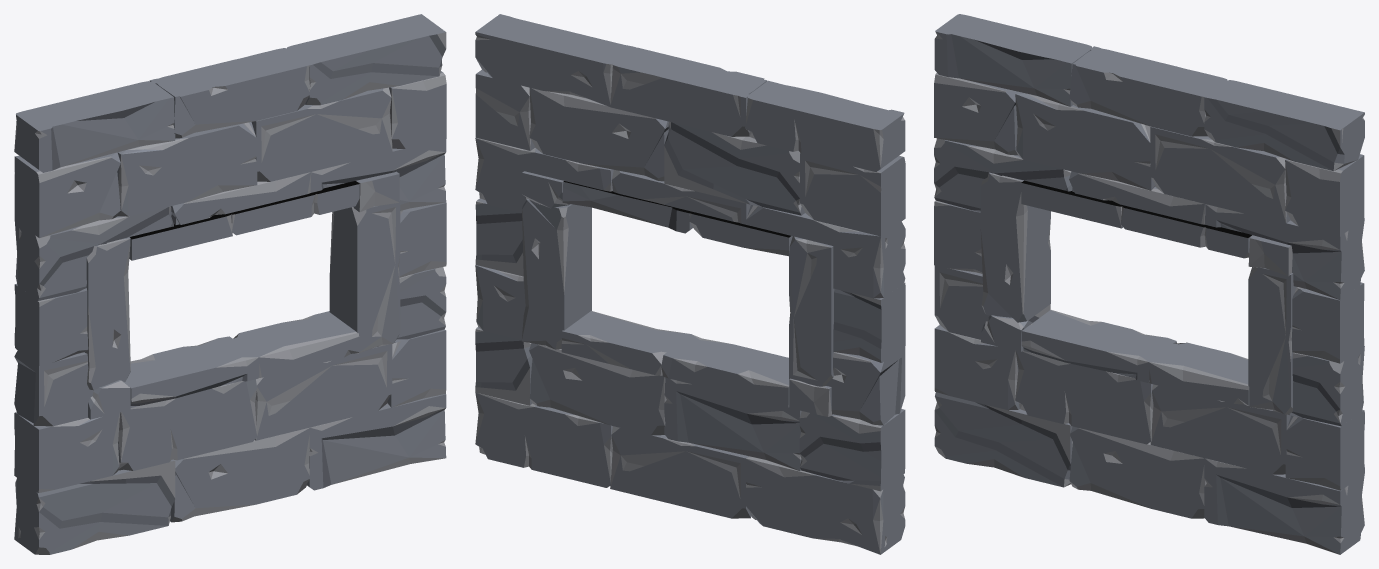
File: mesh_stone_wall_window_big.fbx
3 views of the same model, side by side, from view 1: azimuth 30°, elevation 25°; view 2: azimuth 150°, elevation 25°; view 3: azimuth 330°, elevation 25° (orthographic).
Visible parts, largest first — view 1: mesh_stone_wall_window_big; view 2: mesh_stone_wall_window_big; view 3: mesh_stone_wall_window_big.
Boxes of the visible parts, <box> form: mesh_stone_wall_window_big: <box>14,14,446,554</box>; mesh_stone_wall_window_big: <box>475,14,905,554</box>; mesh_stone_wall_window_big: <box>934,14,1364,554</box>.
Bounding box in the file's own units: 2 × 2 × 0.2566.
